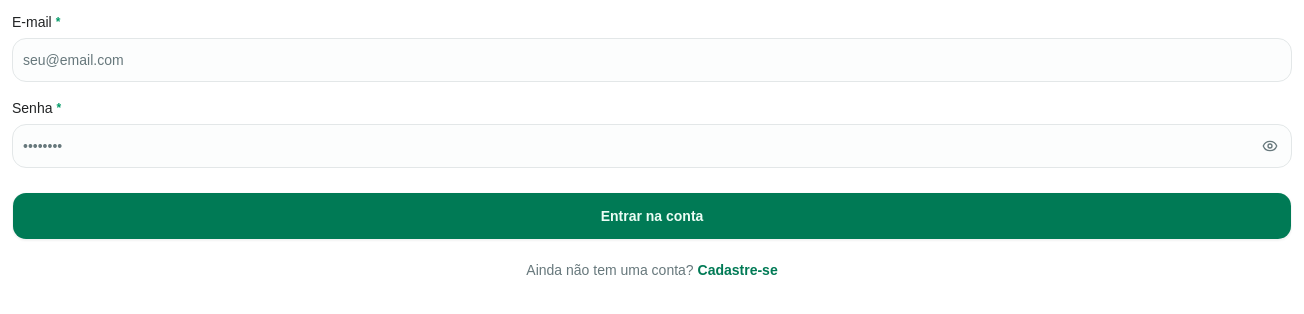
Test case: LoginForm: validação › recusa e-mail em formato inválido
In the field labelled "E-mail *": {"x": 652, "y": 60} [12, 38, 1292, 82], type "isso-nao-e-email"
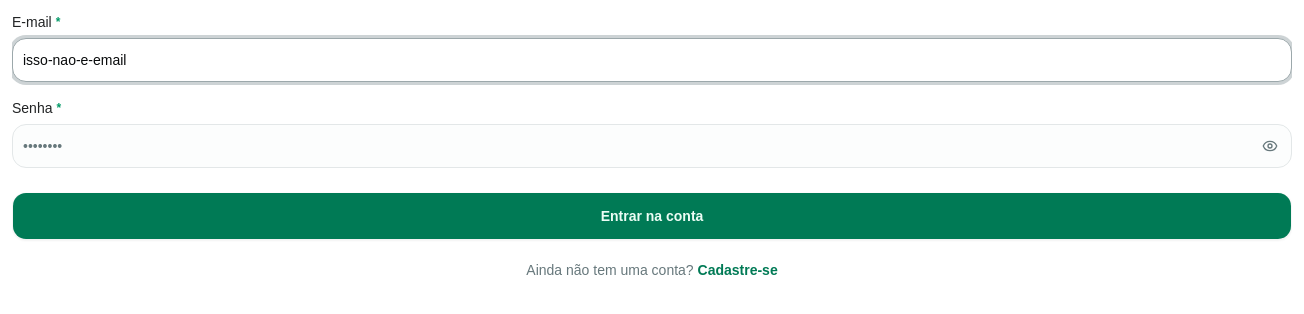
In the password field labelled "Senha *": {"x": 652, "y": 146} [12, 124, 1292, 168], type "segredo"
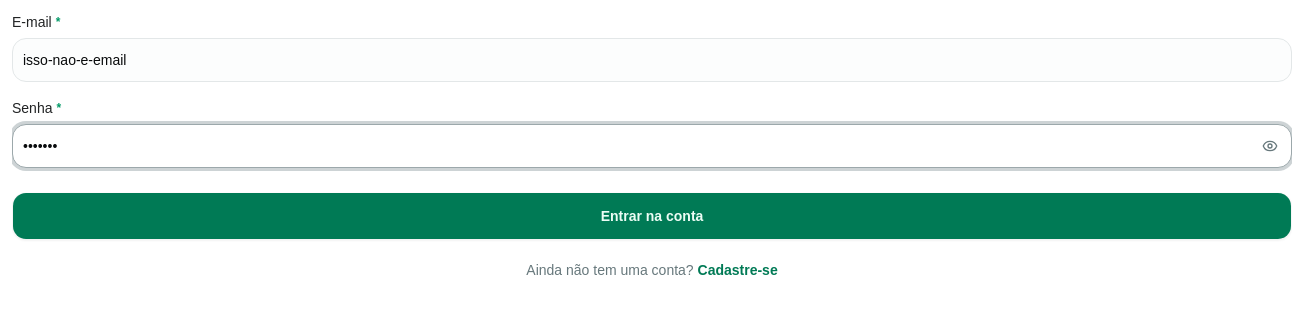
Click the button "Entrar na conta": {"x": 652, "y": 216} [12, 192, 1292, 240]
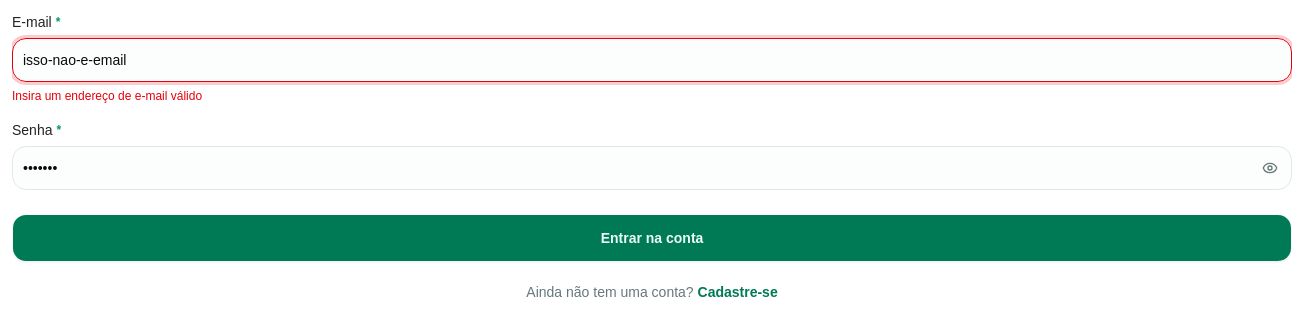
Expected: the text "Insira um endereço de e-mail válido" is shown, [12, 89, 202, 103]
